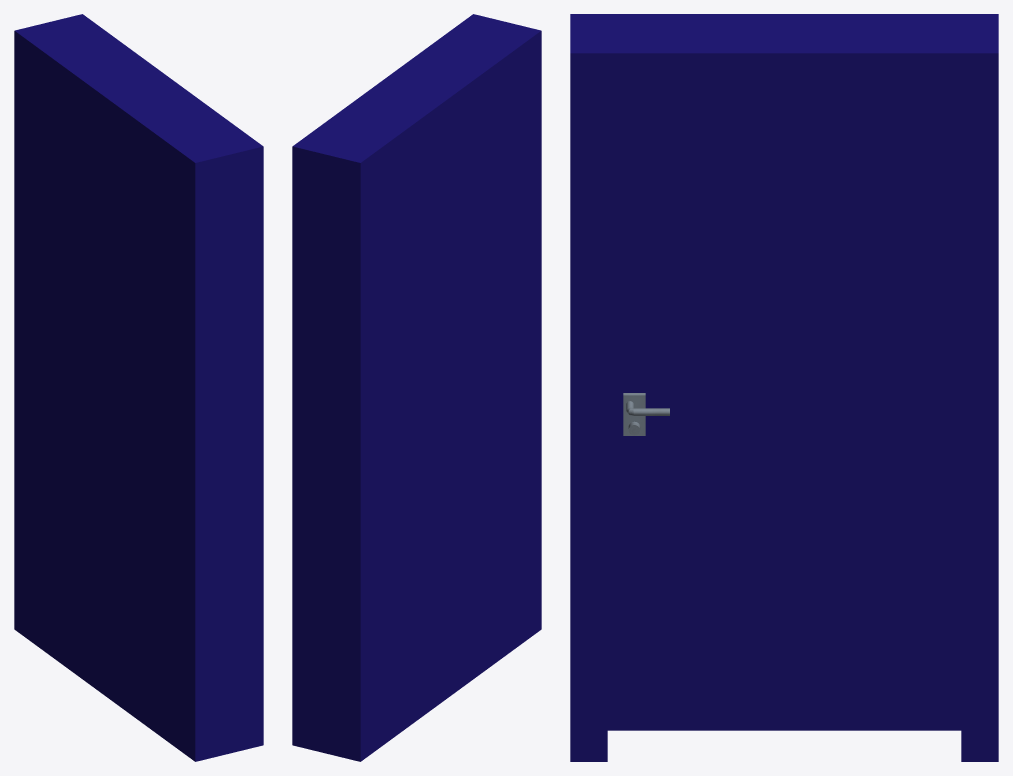
Rendered from tür.fbx.
3 views of the same model, side by side, from view 1: azimuth 30°, elevation 25°; view 2: azimuth 150°, elevation 25°; view 3: azimuth 270°, elevation 25° (orthographic). The views are drawn at different scales.
Parts seen in each view (by area): view 1: tür; view 2: tür; view 3: tür.
Boxes of the visible parts, <box> form: tür: <box>14,14,263,761</box>; tür: <box>292,14,541,761</box>; tür: <box>570,14,998,761</box>.
Bounding box in the file's own units: 25 × 210 × 115.
